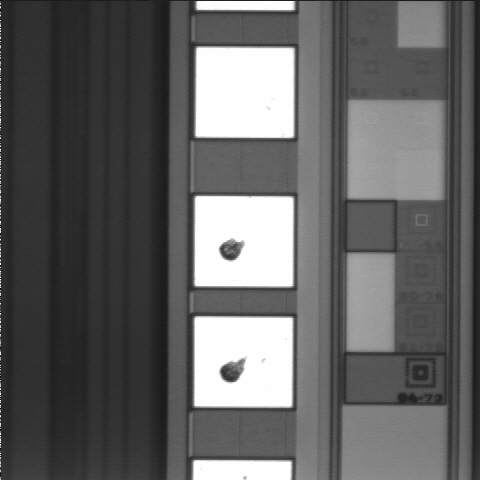pad: (196, 47, 294, 138), (194, 317, 293, 407), (195, 196, 293, 286)
